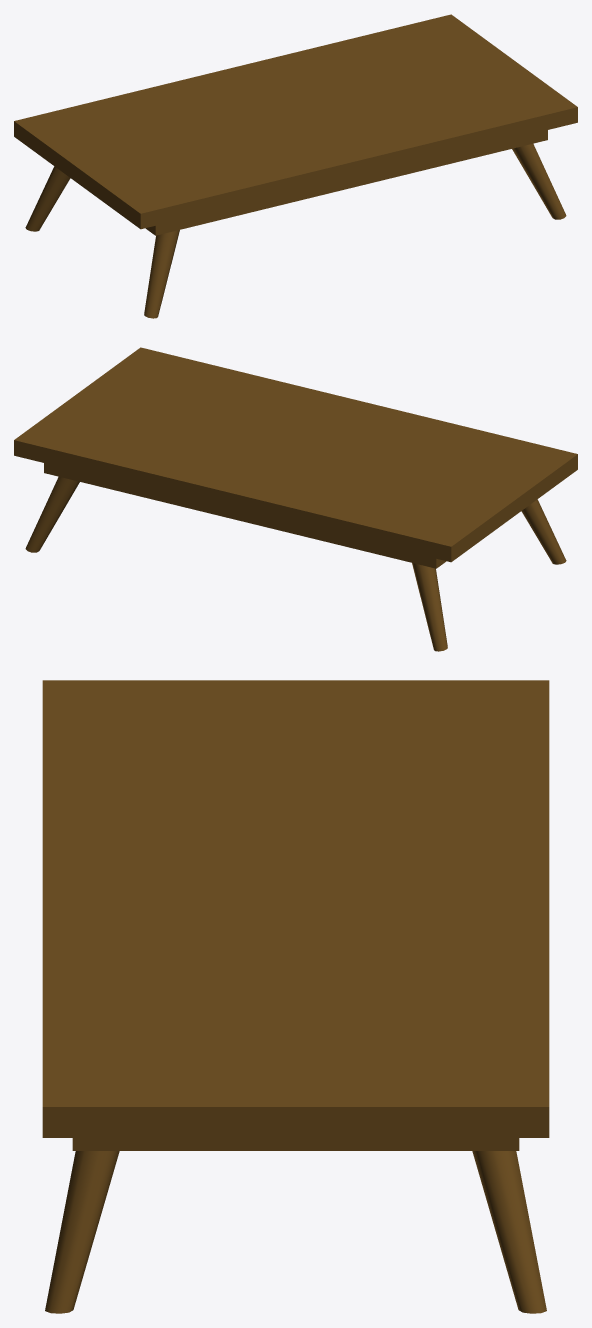
The model's file is coffeetable.fbx.
3 views of the same model, one above another, from view 1: azimuth 30°, elevation 25°; view 2: azimuth 150°, elevation 25°; view 3: azimuth 270°, elevation 25° (orthographic). The views are drawn at different scales.
Parts seen in each view (by area): view 1: coffeetable; view 2: coffeetable; view 3: coffeetable.
Part boxes in pixels (x1=…): coffeetable: x1=14, y1=14, x2=577, y2=318; coffeetable: x1=14, y1=347, x2=577, y2=651; coffeetable: x1=42, y1=680, x2=549, y2=1313.
Size of the model in its own units: 196 by 98.47 by 47.01.
